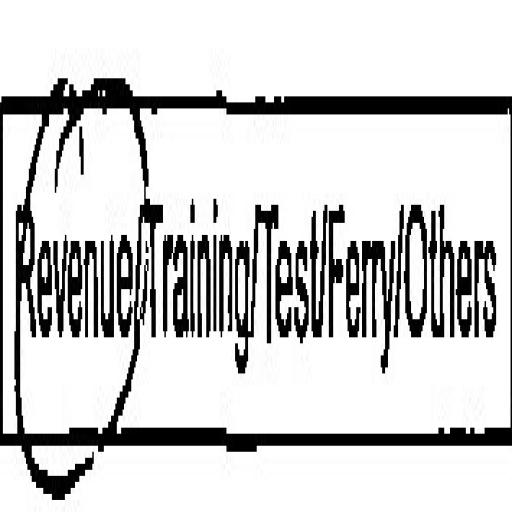check: (6, 0, 142, 512)
